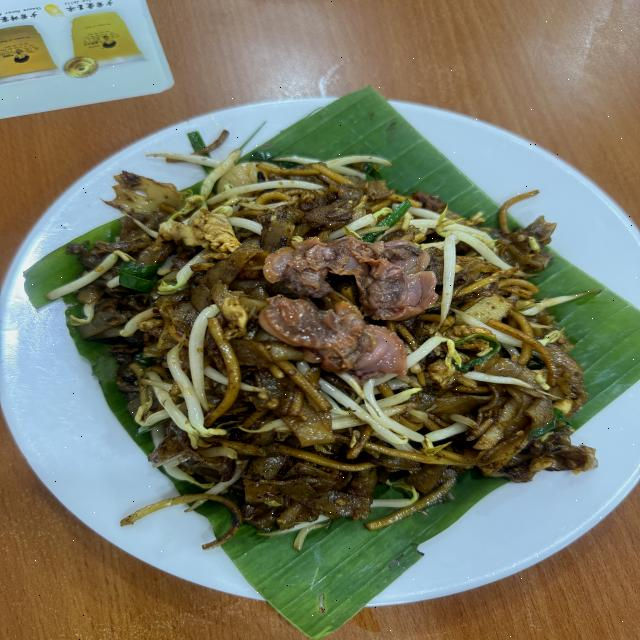Char Kway Teow: (33, 88, 633, 600)
